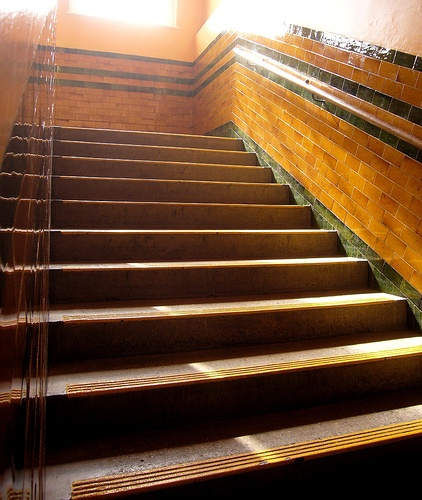stairs_up: (50, 121, 417, 500)
